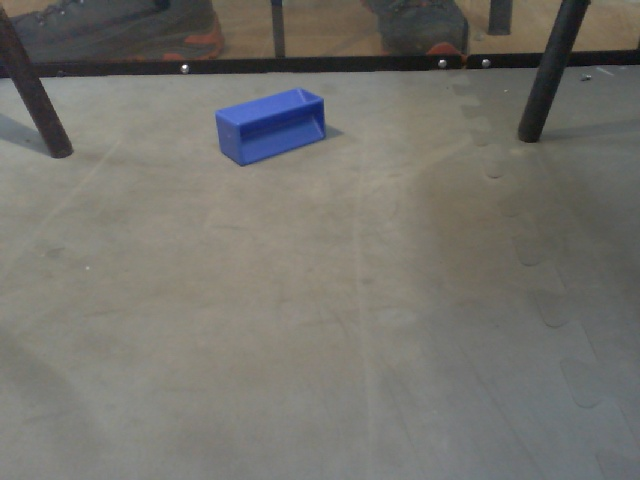BlueSample: (213, 86, 327, 168)
